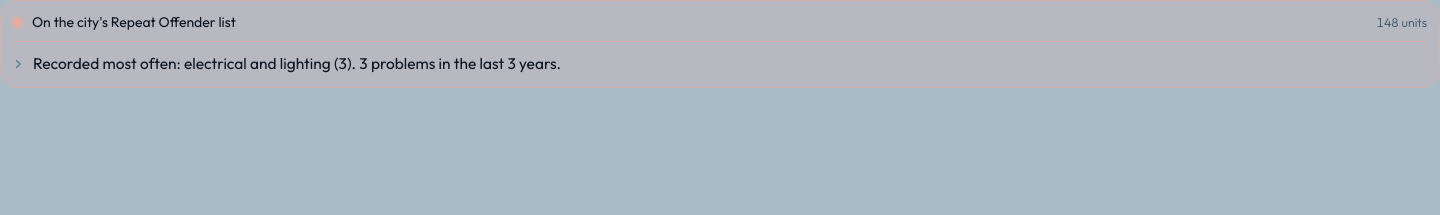
Test: says where the listing's own figures come from, and that they are counted another way
The image size is (1440, 215).
Click the button: point(297, 63) [5, 42, 1435, 85]
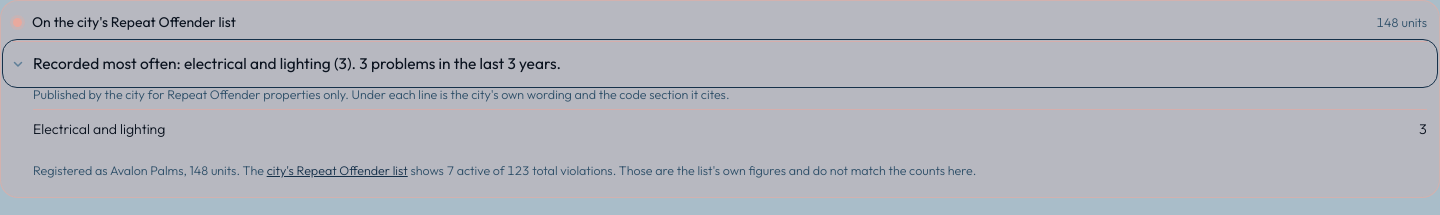
Now the text "Registered as Avalon Palms, 148 units." shows "Registered as Avalon Palms, 148 units. The city's Repeat Offender list shows 7 active of 123 total violations. Those are the list's own figures and do not match", box [33, 162, 976, 178]
